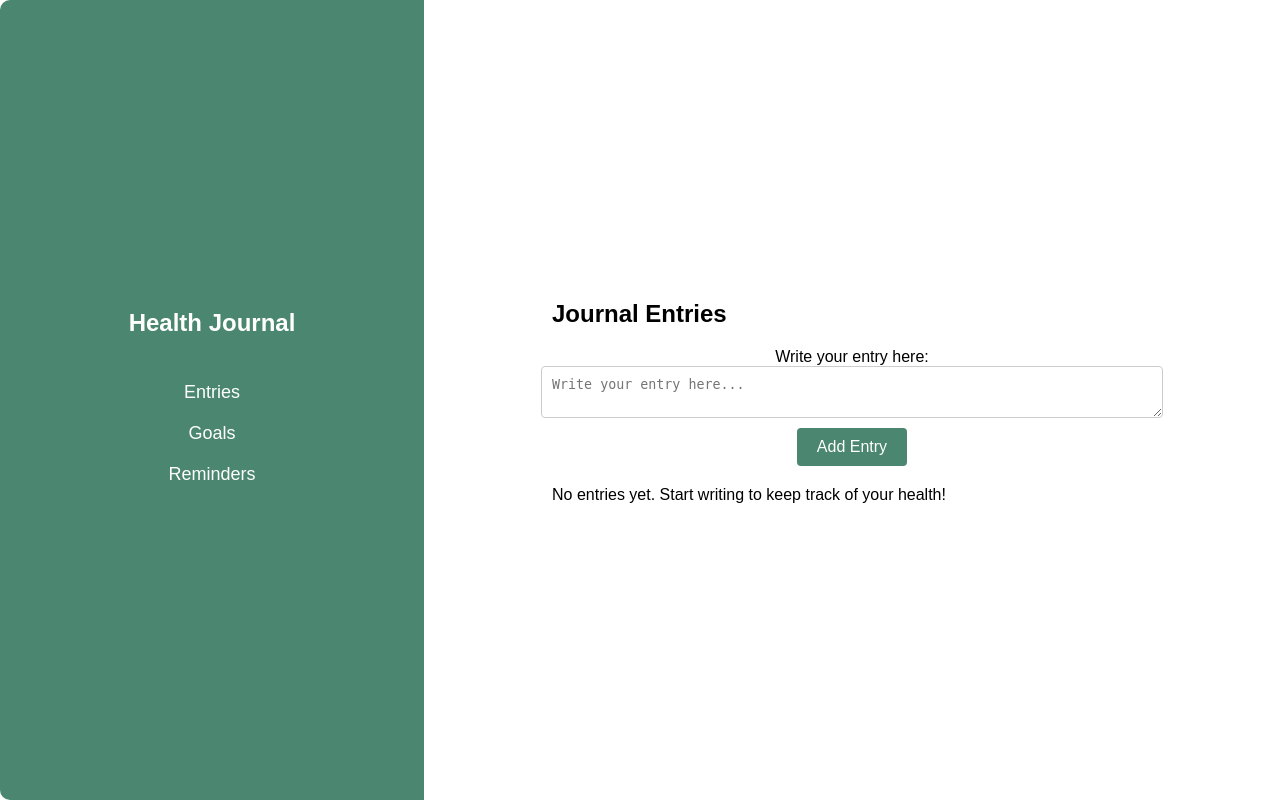
Test: Journal Component › allows adding a new goal
This screenshot has width=1280, height=800.
Click the button "Goals": (212, 433) [188, 423, 236, 443]
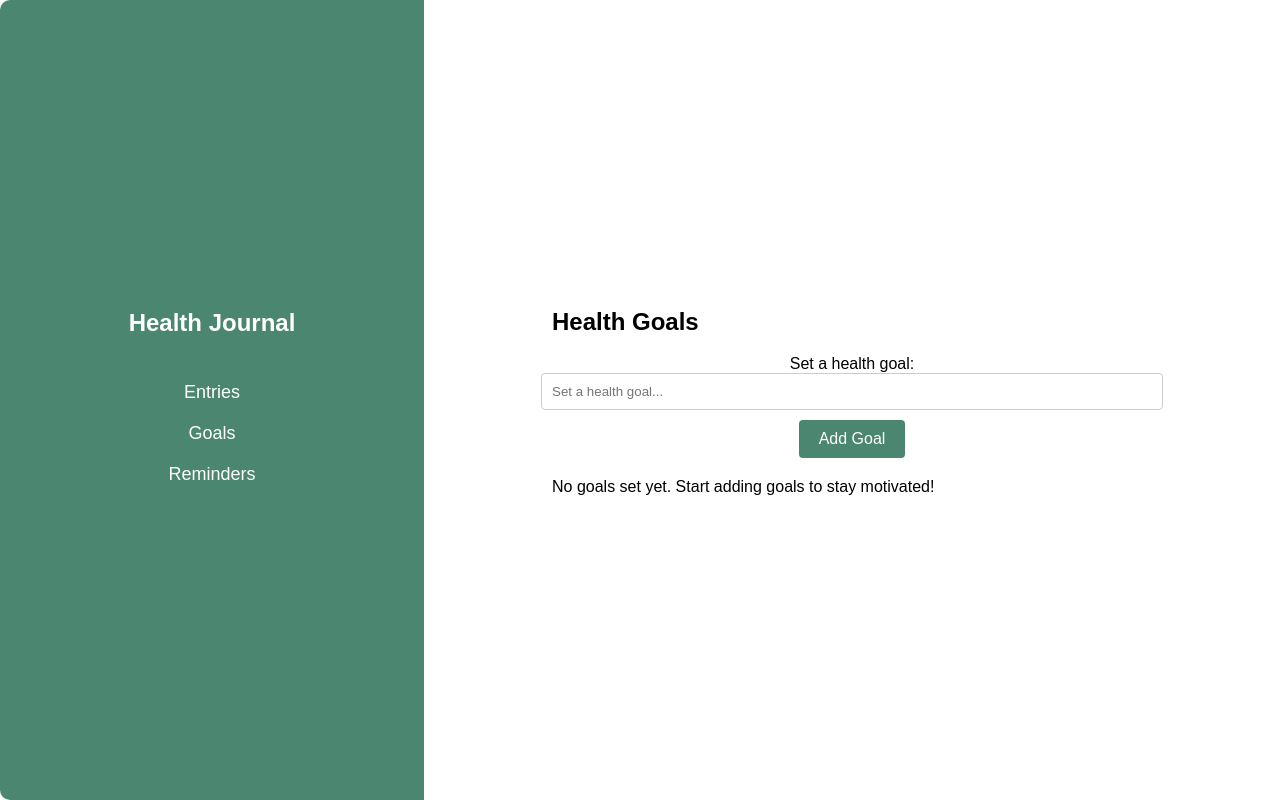
In the field with placeholder "Set a health goal...": (852, 392) [541, 373, 1163, 410], type "Exercise regularly"
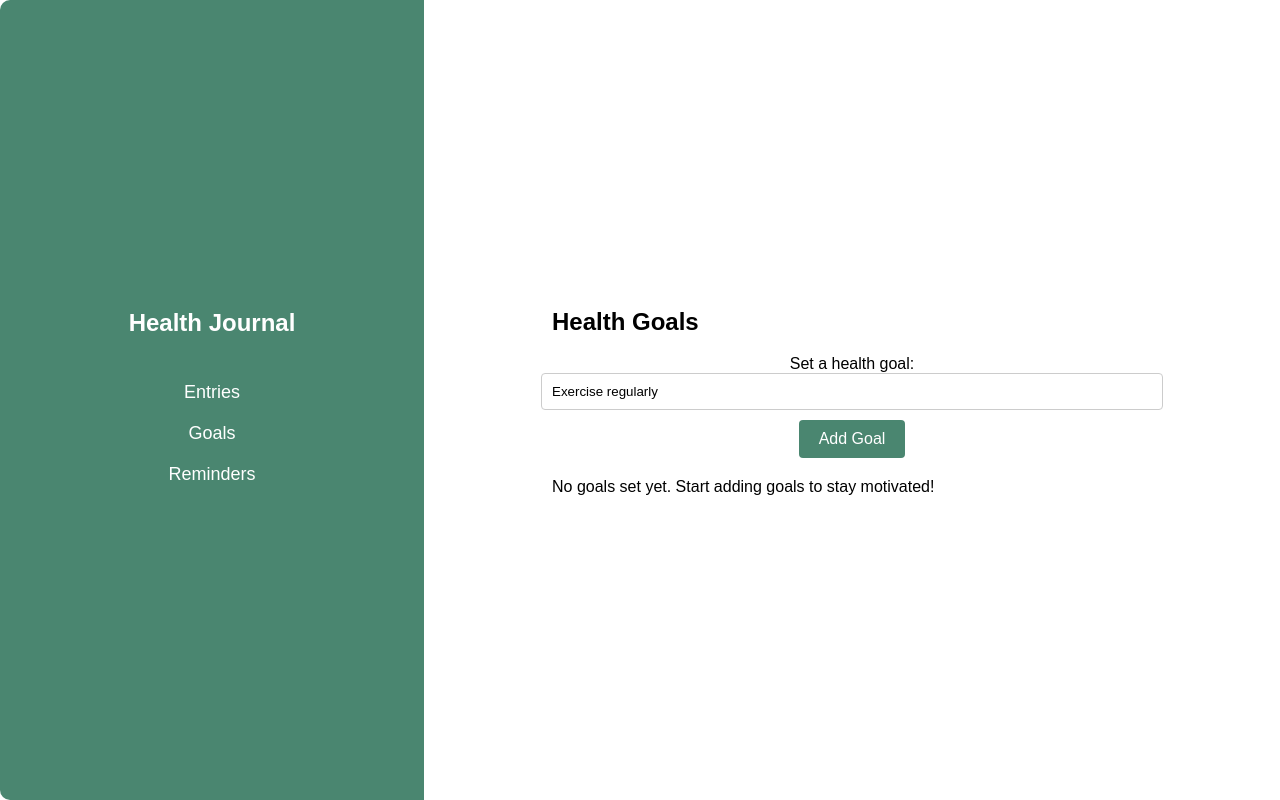
Click the button "Add Goal": (852, 439) [799, 420, 905, 458]
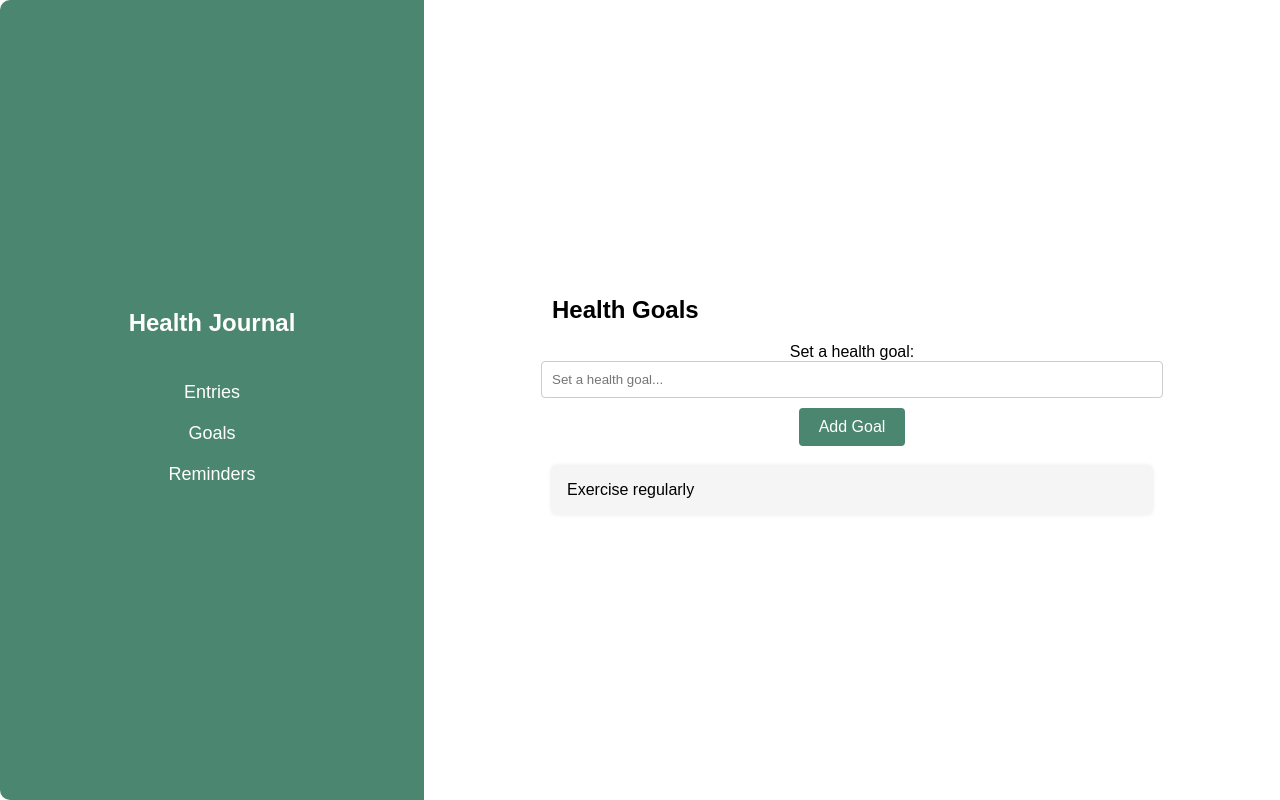
Result: the list item "Exercise regularly" is shown at [552, 466, 1152, 514]
